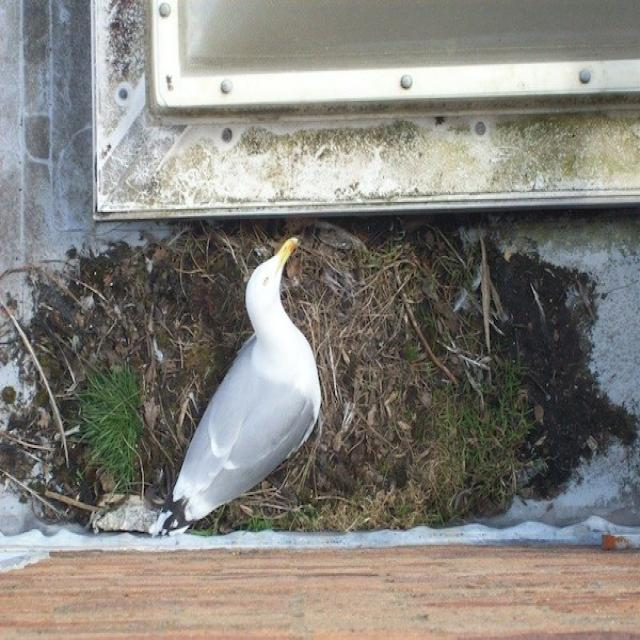bird: (148, 236, 322, 538)
